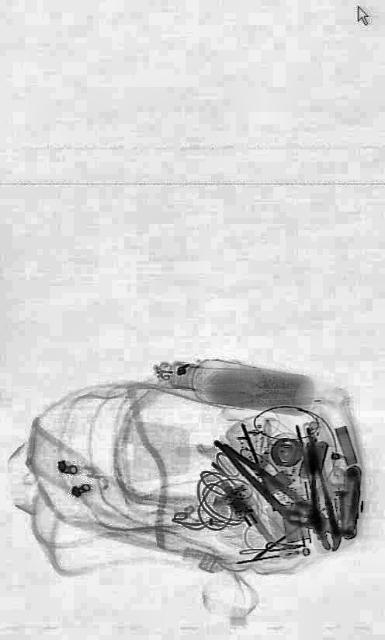Pliers: (210, 425, 326, 543)
